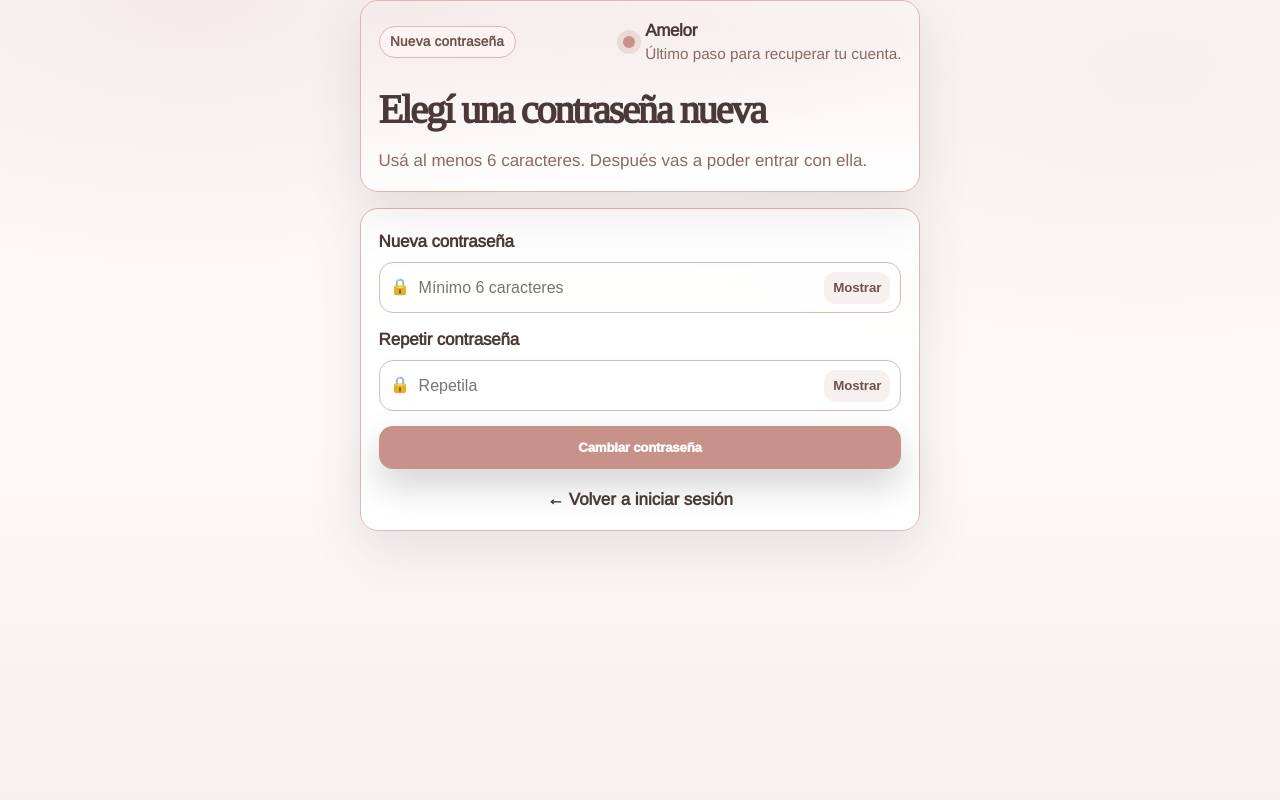
Test case: ResetPassword › link vencido: mensaje de fallback
This screenshot has width=1280, height=800.
Step 1. Type "secreto1" into the password field labelled "Nueva contraseña" → (617, 288), box [419,274,816,300]
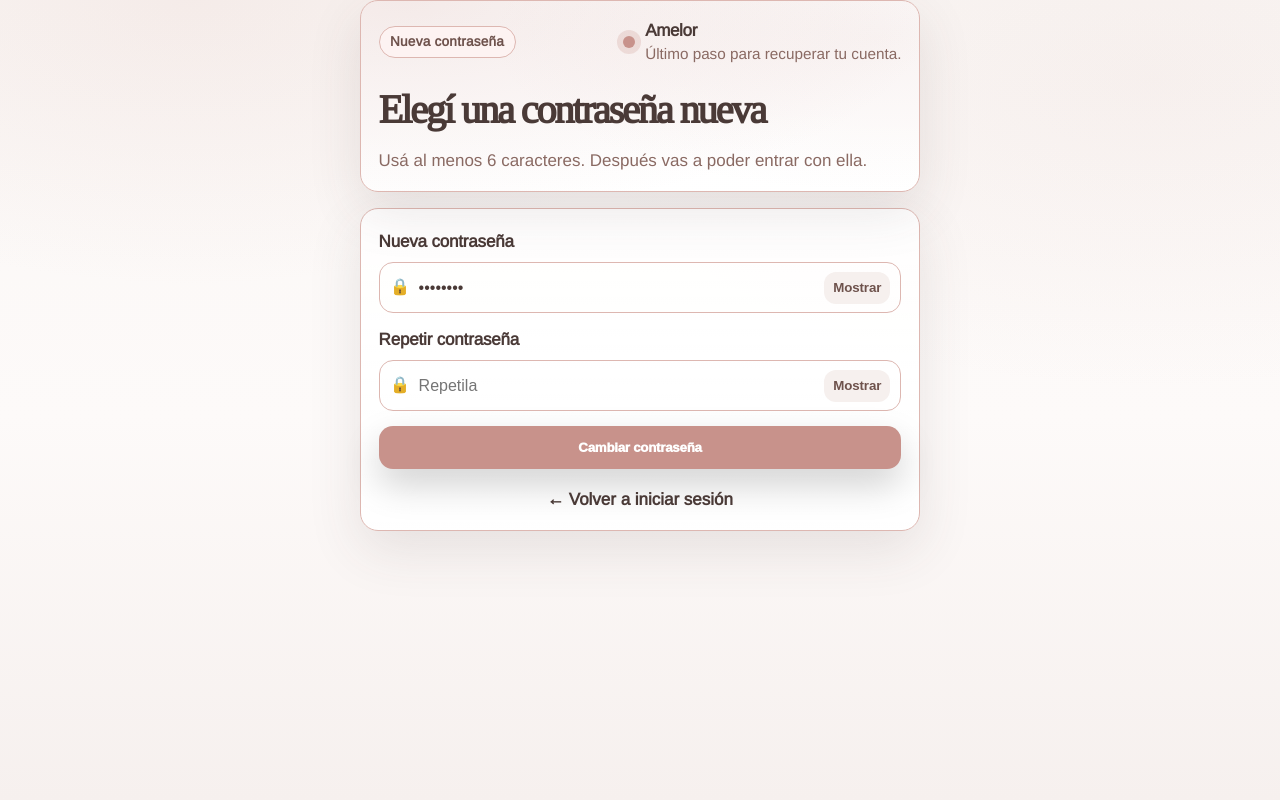
Step 2. Type "secreto1" into the password field labelled "Repetir contraseña" → (617, 386), box [419,372,816,398]
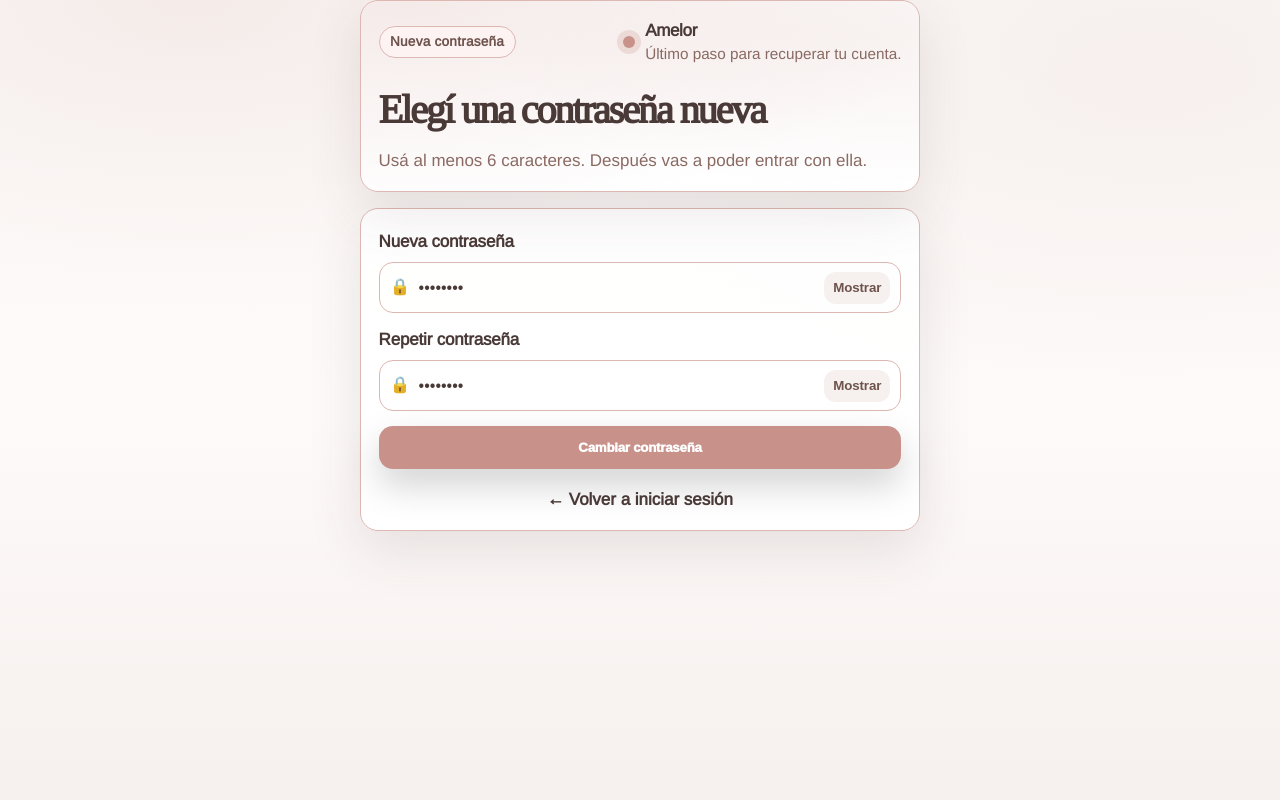
Step 3. Submit the form, box [379,230,901,470]
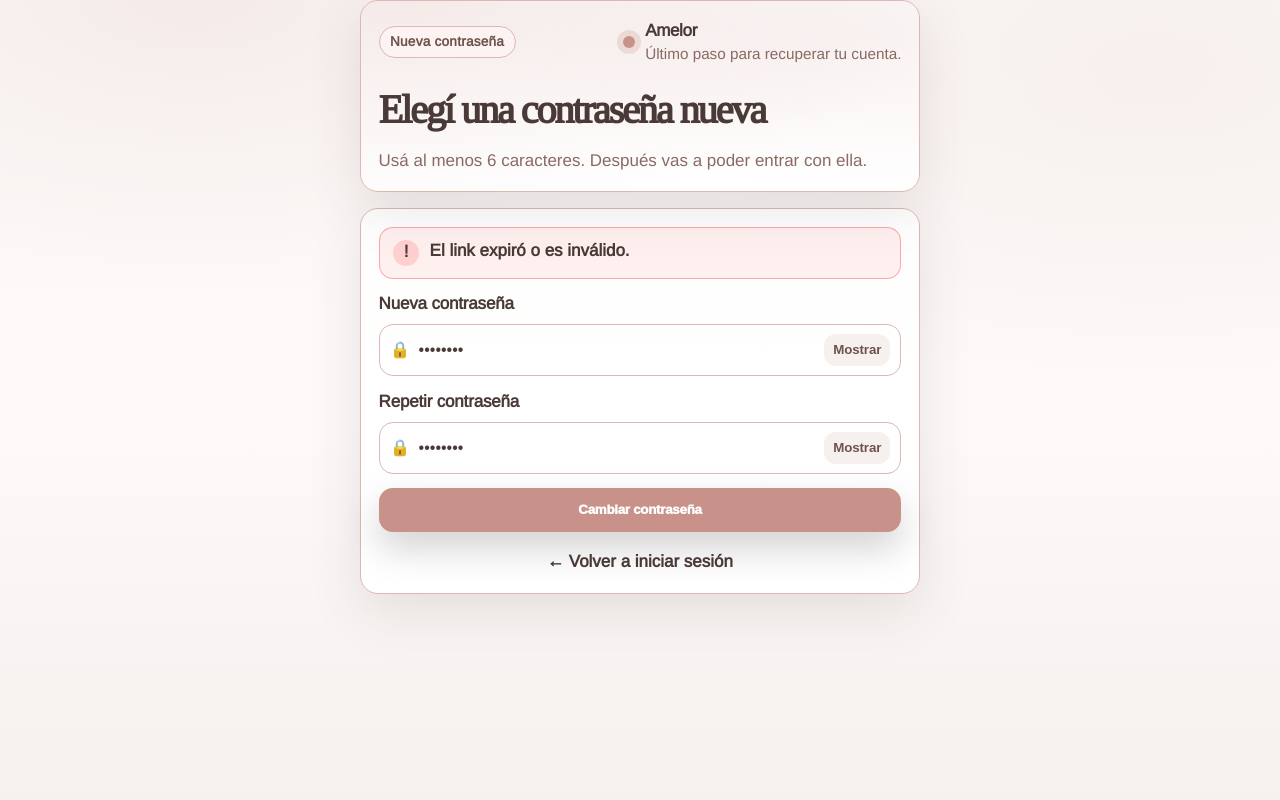
Result: the message shows "expiró o es inválido" at [430,241,630,260]
